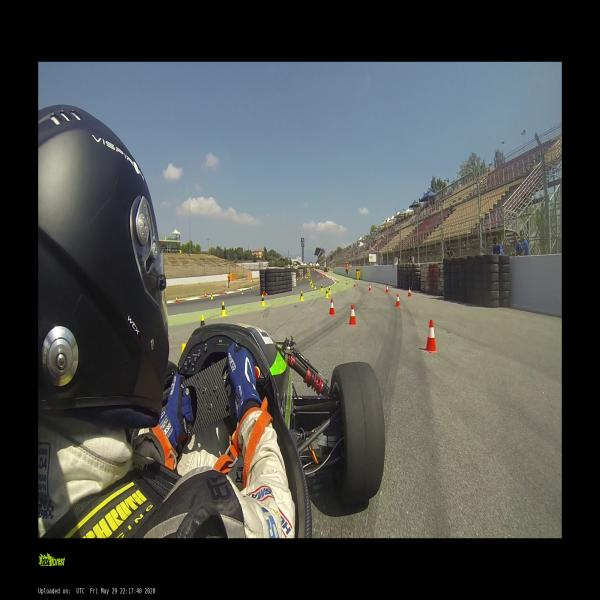orange_cone: (423, 320, 439, 352), (347, 305, 357, 326), (328, 299, 336, 316), (394, 294, 401, 307), (407, 288, 412, 296), (385, 286, 389, 294), (368, 284, 372, 290), (353, 281, 357, 287), (204, 292, 207, 298), (175, 296, 178, 302), (345, 280, 348, 286), (257, 284, 259, 290), (337, 279, 339, 283), (251, 286, 252, 291), (225, 290, 226, 295)
yellow_cone: (219, 302, 226, 316), (260, 294, 266, 306), (200, 314, 205, 327), (181, 344, 186, 356), (299, 291, 304, 301), (327, 286, 331, 295), (325, 289, 328, 298), (320, 284, 323, 291), (210, 294, 213, 300), (314, 283, 316, 290), (241, 289, 243, 295), (311, 282, 313, 288), (309, 281, 311, 285)
